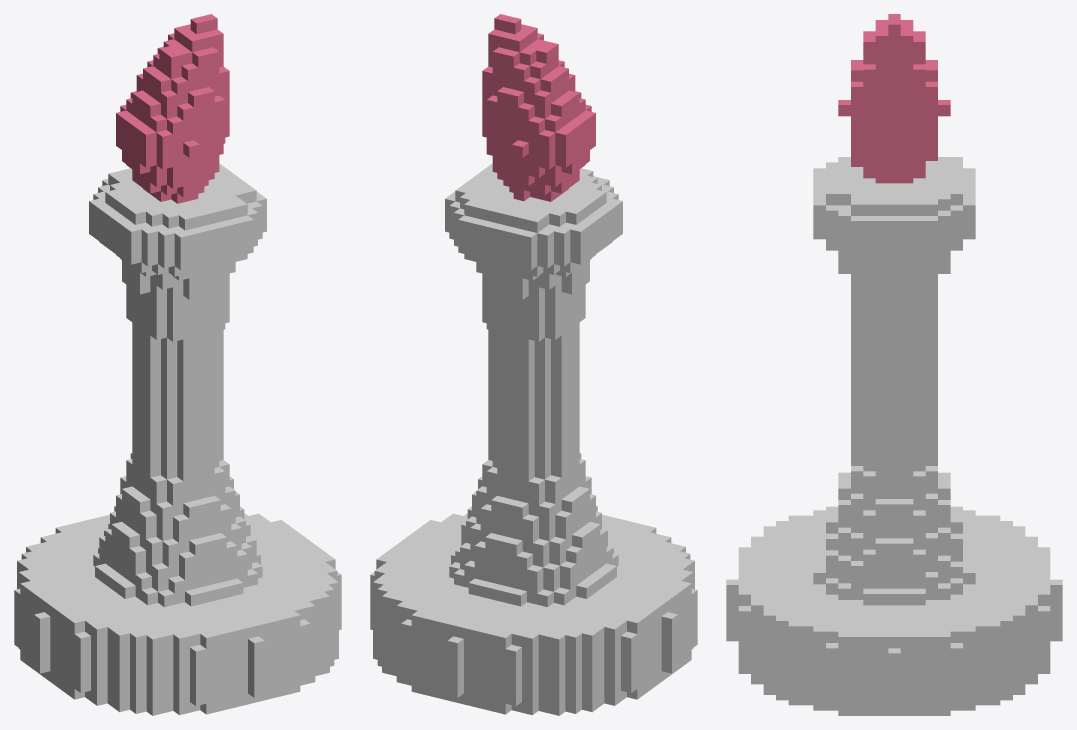
File: paintress.fbx
The picture shows the model from 3 angles, left to right: view 1: azimuth 30°, elevation 25°; view 2: azimuth 150°, elevation 25°; view 3: azimuth 270°, elevation 25°; orthographic projection. The views are drawn at different scales.
Visible parts, largest first — view 1: Cube; view 2: Cube; view 3: Cube.
Part boxes in pixels (x1,y1,x2,y2): Cube: (14,14,341,715); Cube: (370,14,697,715); Cube: (726,14,1062,715).
Bounding box in the file's own units: 301 × 635 × 301.
